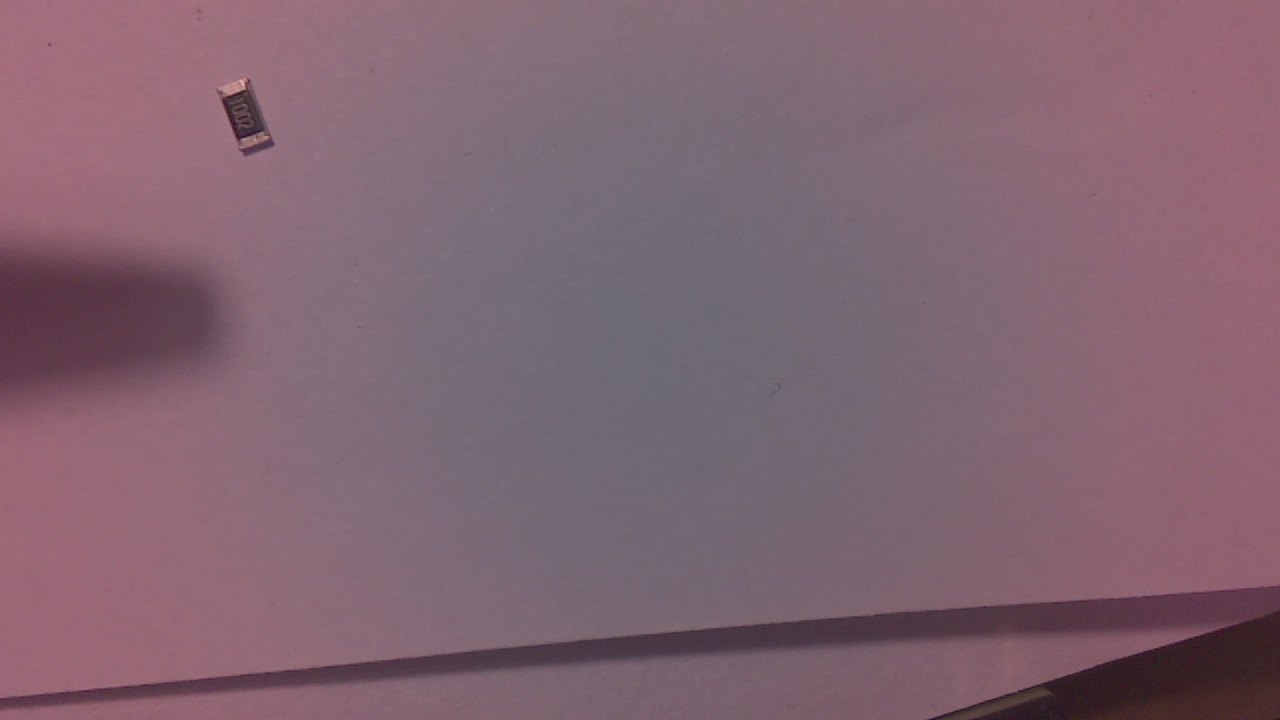Resistor: (222, 81, 278, 160)
